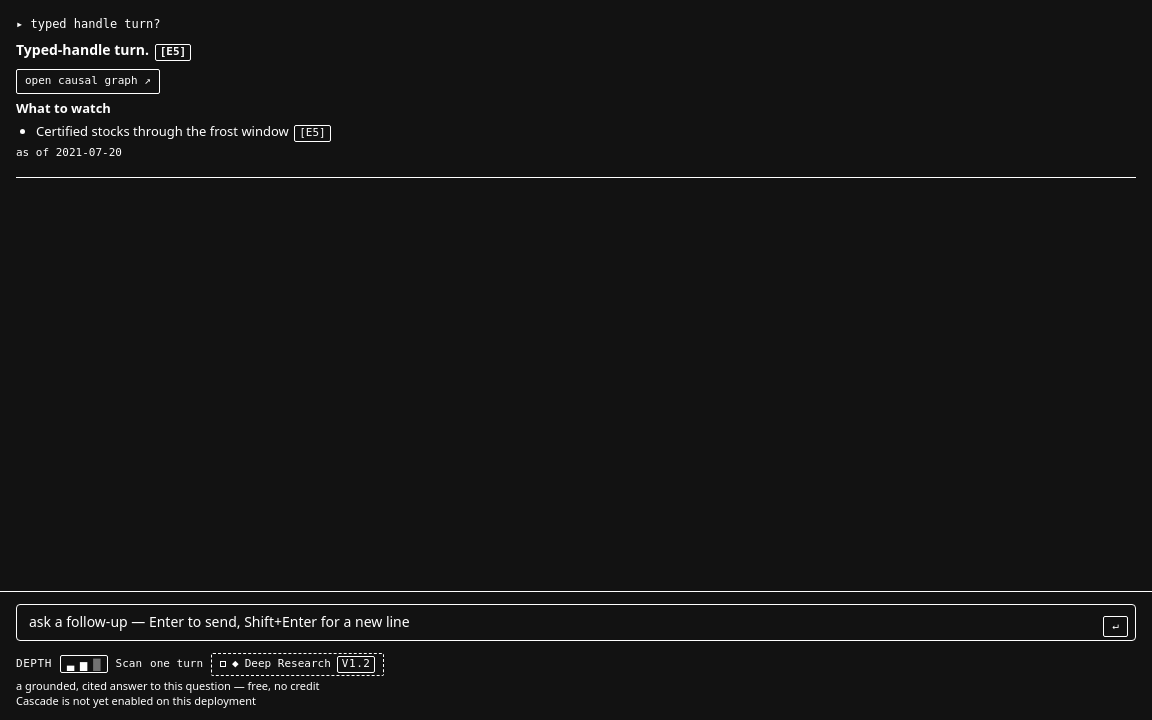
D-TW-23: the LIVE turn keeps clickable citation chips after it settles into `past` › the MEASURED shape -- a typed [E5] in the watch section -- opens AND pins on the prod wire shape
Expected: the element with test id "past-turn" is shown, [16, 16, 1136, 178]
Step 1. Click the button with test id "cite-chip" below "What to watch" → coordinates (312, 133), box [294, 125, 331, 142]
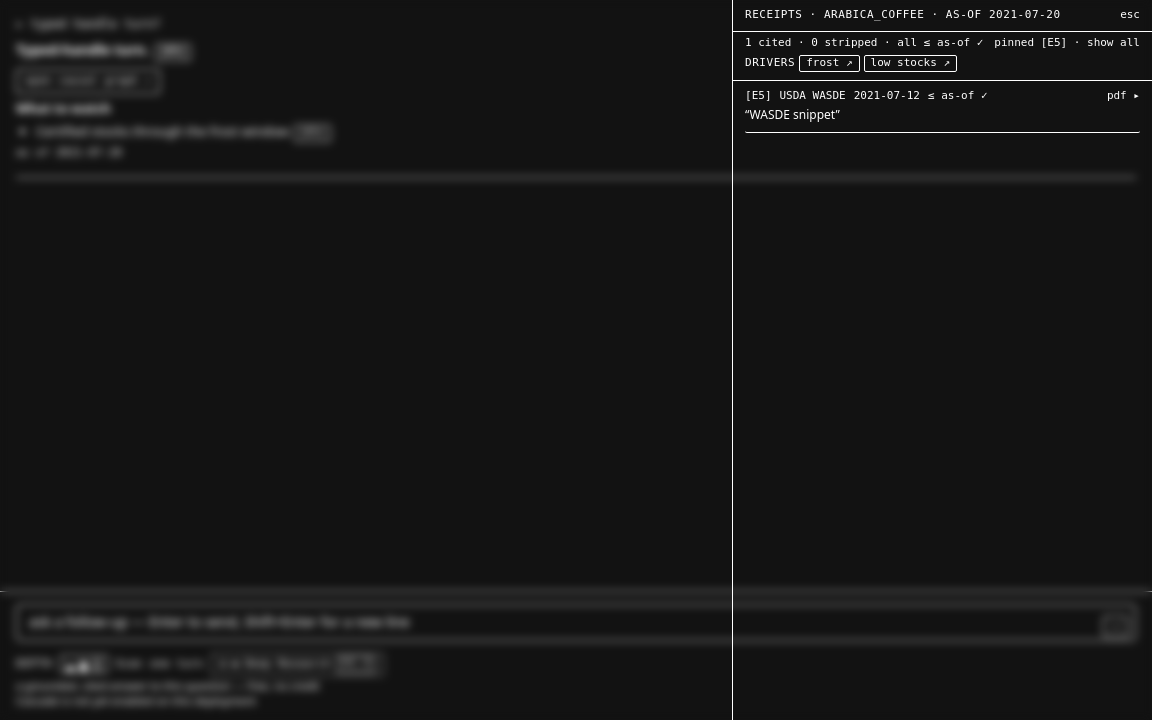
Expected: the dialog with test id "receipts" is shown, [732, 0, 1151, 719]
Expected: the button "pinned [E5] · show all" is shown, [994, 36, 1140, 51]
